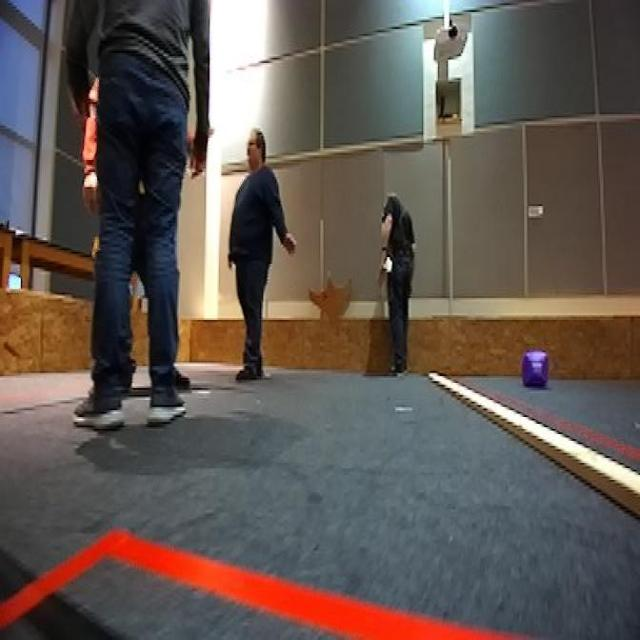frc_cube: (522, 349, 551, 397)
